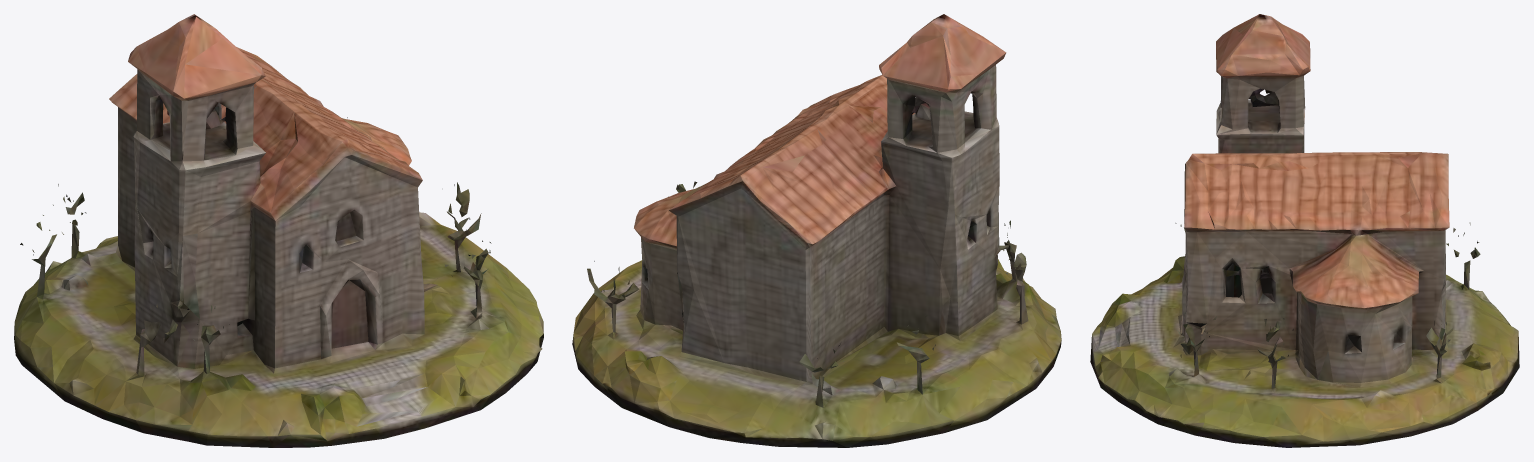
Rendered from church_stone_island_lod1.glb.
3 renders of one model, left to right at view 1: azimuth 30°, elevation 25°; view 2: azimuth 150°, elevation 25°; view 3: azimuth 270°, elevation 25°, orthographic. The views are drawn at different scales.
Visible parts, largest first — view 1: church_stone_island_lod1; view 2: church_stone_island_lod1; view 3: church_stone_island_lod1.
Part boxes in pixels (x1,y1,x2,y2): church_stone_island_lod1: (14, 14, 543, 447); church_stone_island_lod1: (572, 14, 1061, 447); church_stone_island_lod1: (1090, 14, 1519, 447).
Bounding box in the file's own units: 9.93 × 7.74 × 9.98.
1 material, 1 textured.
